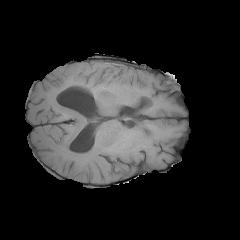glioma: (50, 63, 125, 103)
